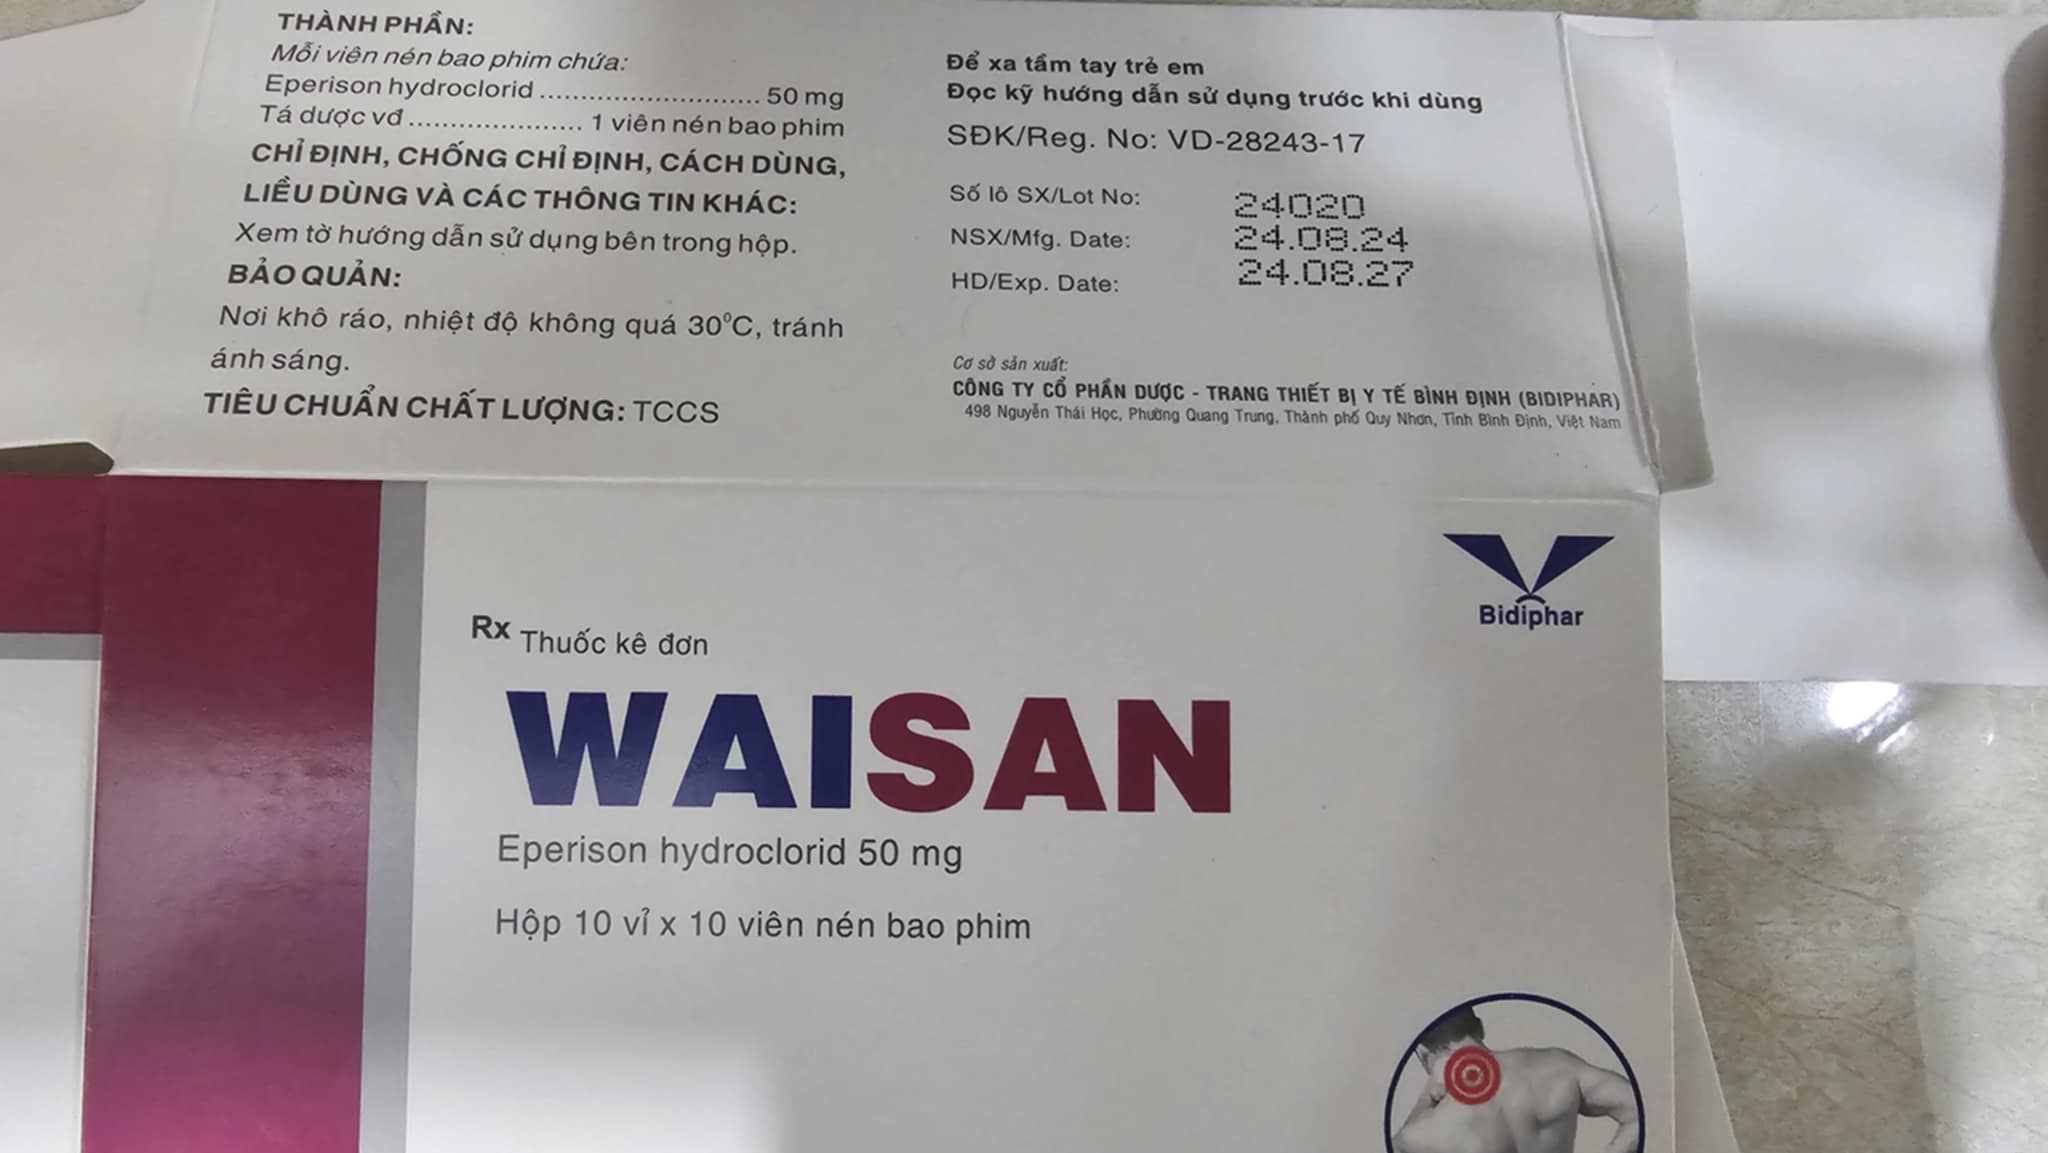Waisan: (492, 664, 1241, 823)
